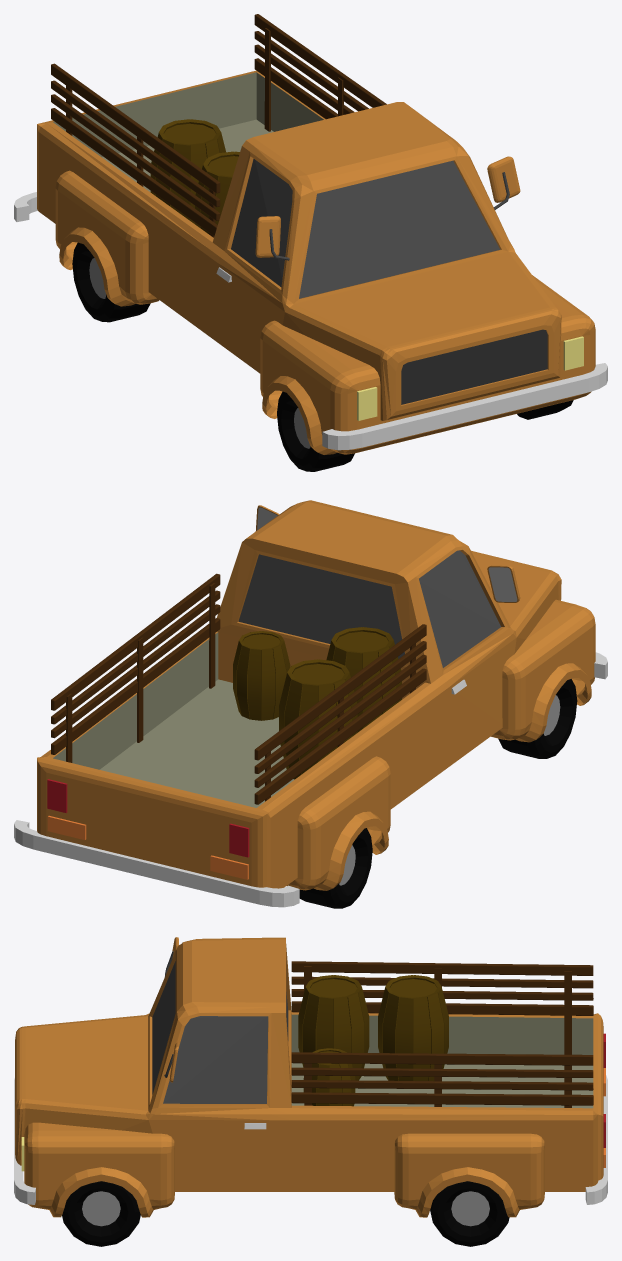
Rendered from Kamyon (1).fbx.
3 renders of one model, top to bottom at view 1: azimuth 30°, elevation 25°; view 2: azimuth 150°, elevation 25°; view 3: azimuth 270°, elevation 25°, orthographic. The views are drawn at different scales.
Parts seen in each view (by area): view 1: Kamyon; view 2: Kamyon; view 3: Kamyon.
Boxes of the visible parts, box(x1,y1,x2,y2) form: Kamyon: box(14, 14, 607, 471); Kamyon: box(14, 500, 607, 908); Kamyon: box(14, 937, 607, 1246).
Bounding box in the file's own units: 300 × 248 × 604.
Materials: 1 (1 with a texture image).
